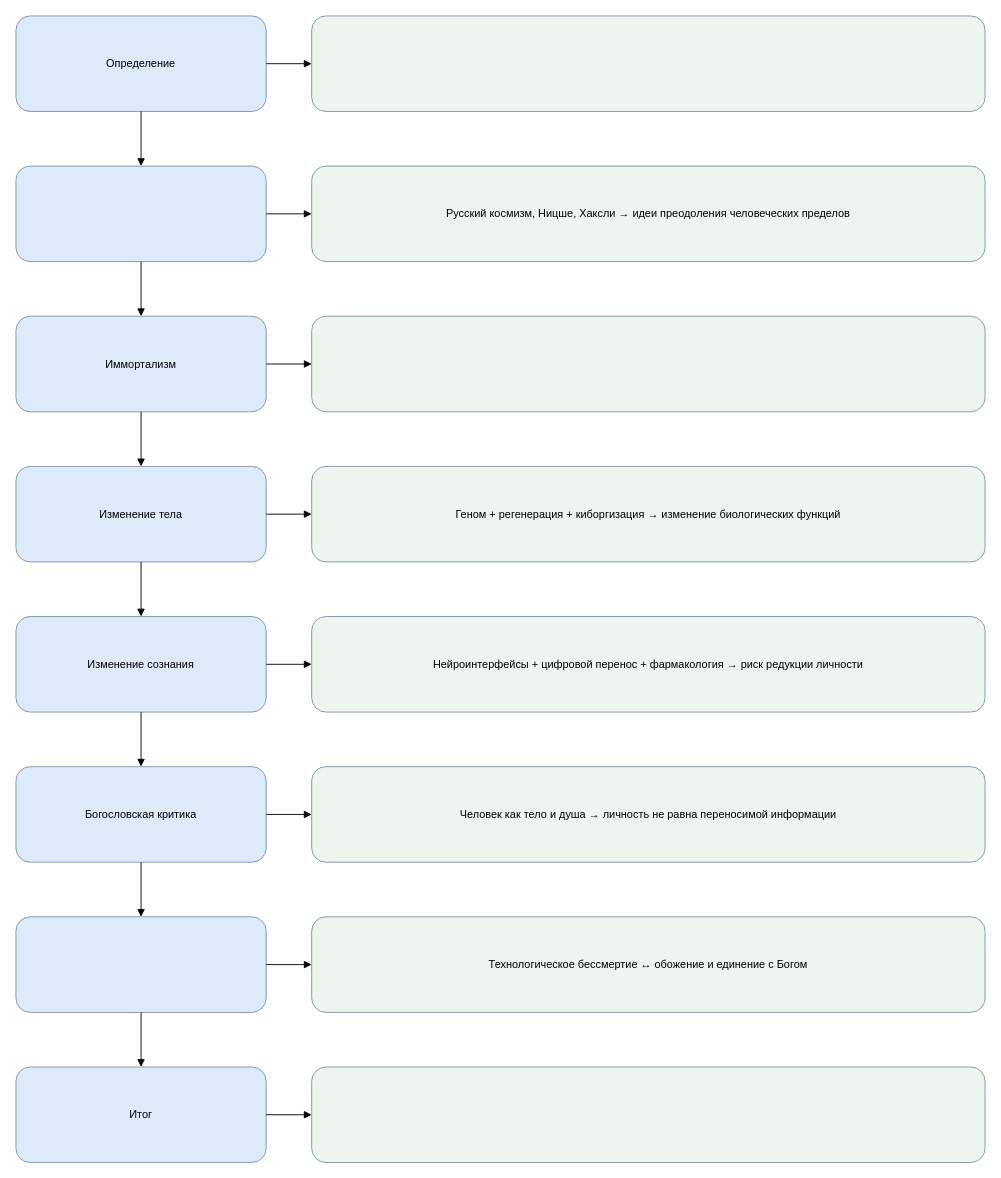
The diagram is 1001 pixels wide and 1178 high, and some of its shapes have lost their labels. The shapes that lost their labels are listed below. From the top down, each one's box as (x1, y1, x2, y2) in pixels, then its label:
(311, 15, 985, 111): Технологическое улучшение человека → преодоление болезней, старения и смерти
(15, 165, 266, 262): Исторические истоки
(311, 315, 985, 412): Крионика и борьба со старением → надежда на продолжение жизни
(15, 916, 266, 1012): Сопоставление целей
(311, 1066, 985, 1163): Наука + нравственная ответственность → сохранение человеческого достоинства
